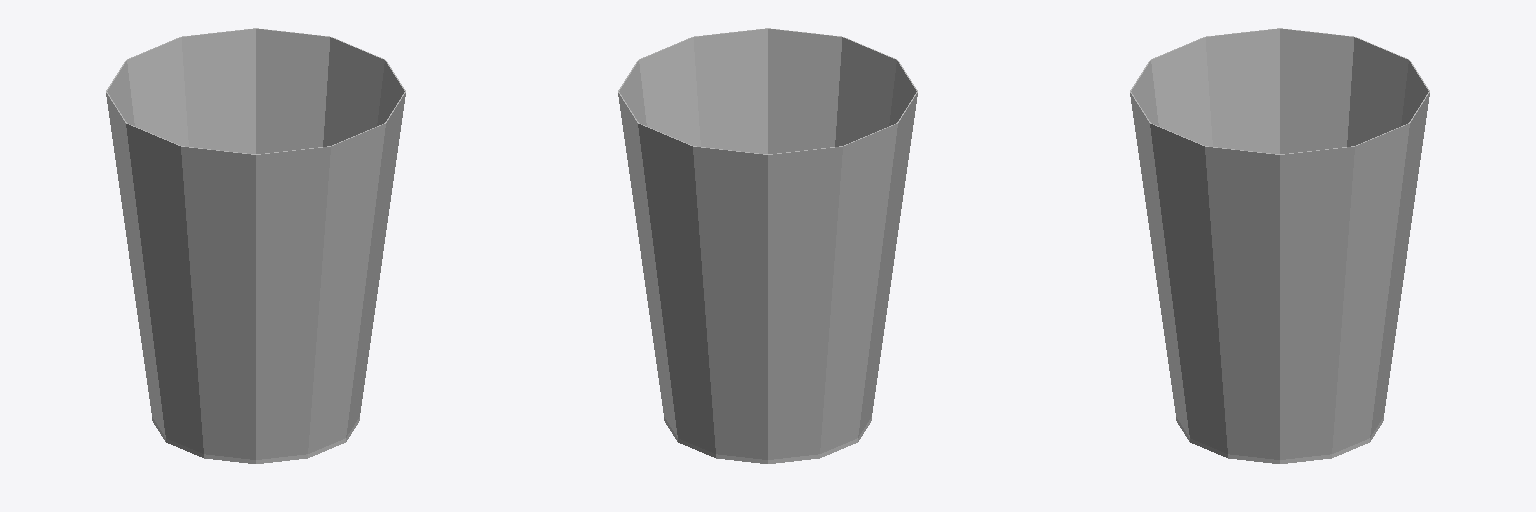
File: Cup2.obj
3 renders of one model, left to right at view 1: azimuth 30°, elevation 25°; view 2: azimuth 150°, elevation 25°; view 3: azimuth 270°, elevation 25°, orthographic.
Parts seen in each view (by area): view 1: Cylinder; view 2: Cylinder; view 3: Cylinder.
Boxes of the visible parts, box(x1,y1,x2,y2) form: Cylinder: box(106, 28, 405, 463); Cylinder: box(618, 28, 917, 463); Cylinder: box(1130, 28, 1429, 463).
Size of the model in its own units: 2.89 by 3.48 by 2.89.